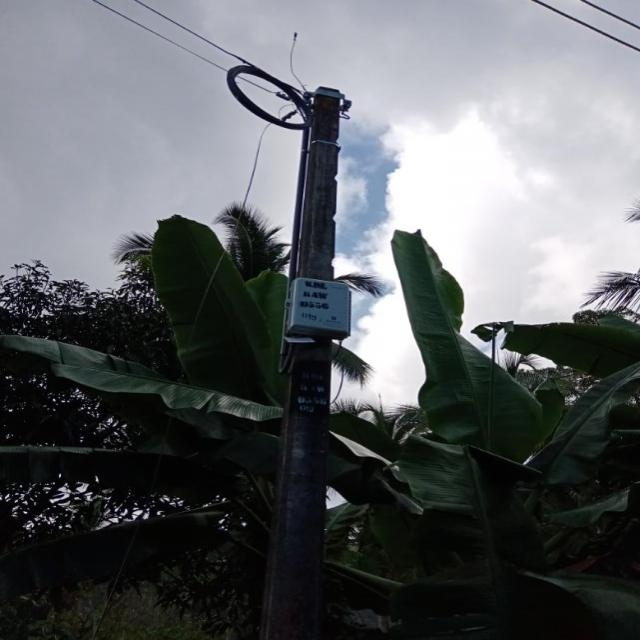light_pole: (250, 79, 353, 640)
